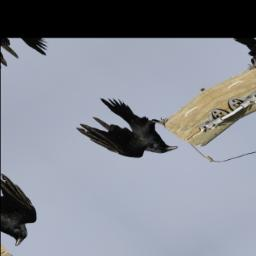Crow: (62, 83, 193, 176)
